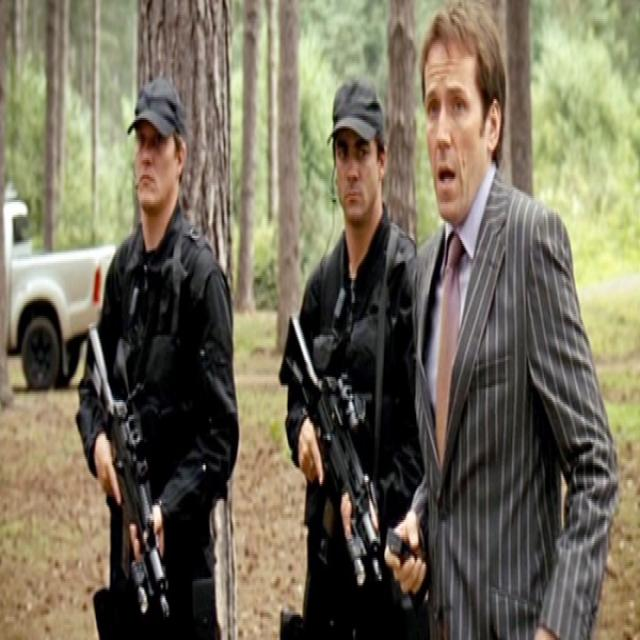rifle: (285, 314, 389, 600), (85, 315, 176, 630)
